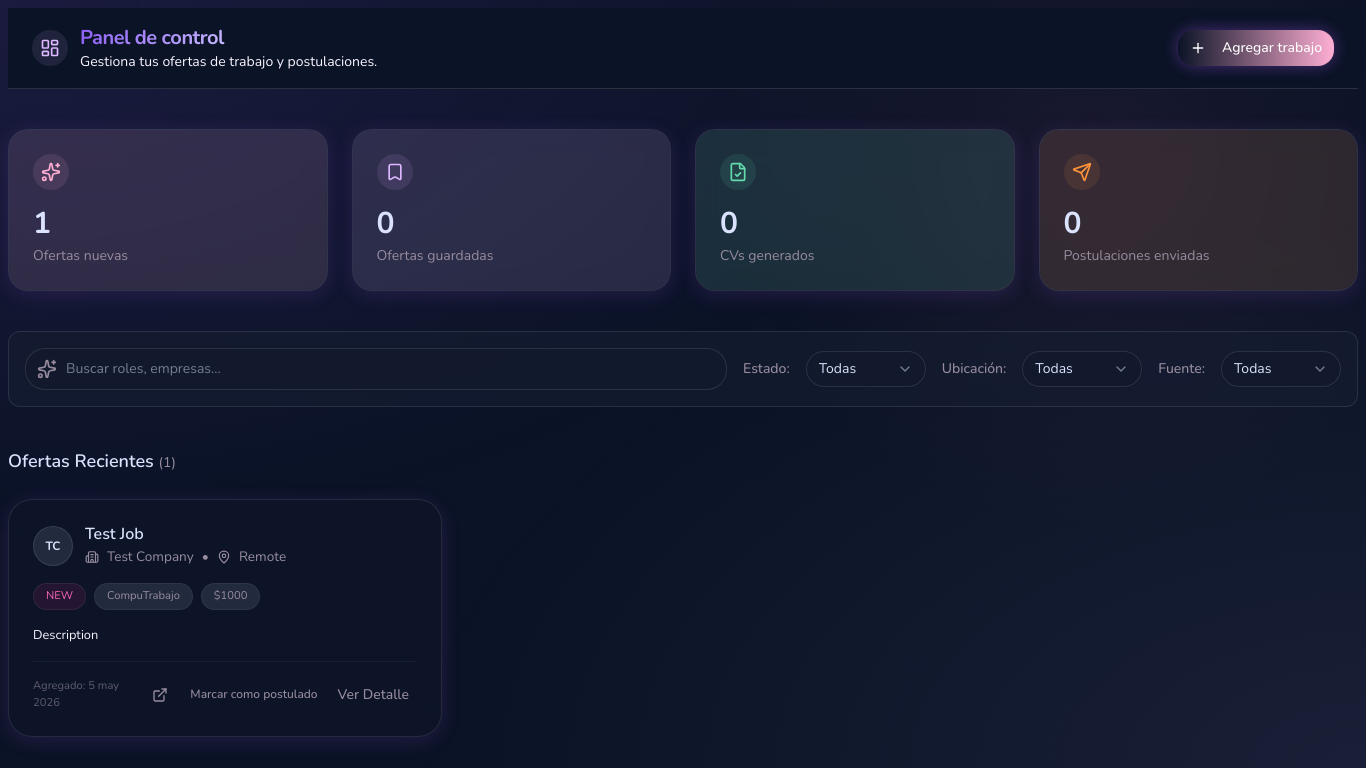
Test: Dashboard Pagination › updates job status when "Mark as Applied" is clicked
Check: the heading "Test Job" is shown, box [85,523,144,545]
Check: the text "NEW" is shown, box [33,583,86,610]
Click the button "Marcar como postulado".
click(254, 695)  # box [182,679,326,711]
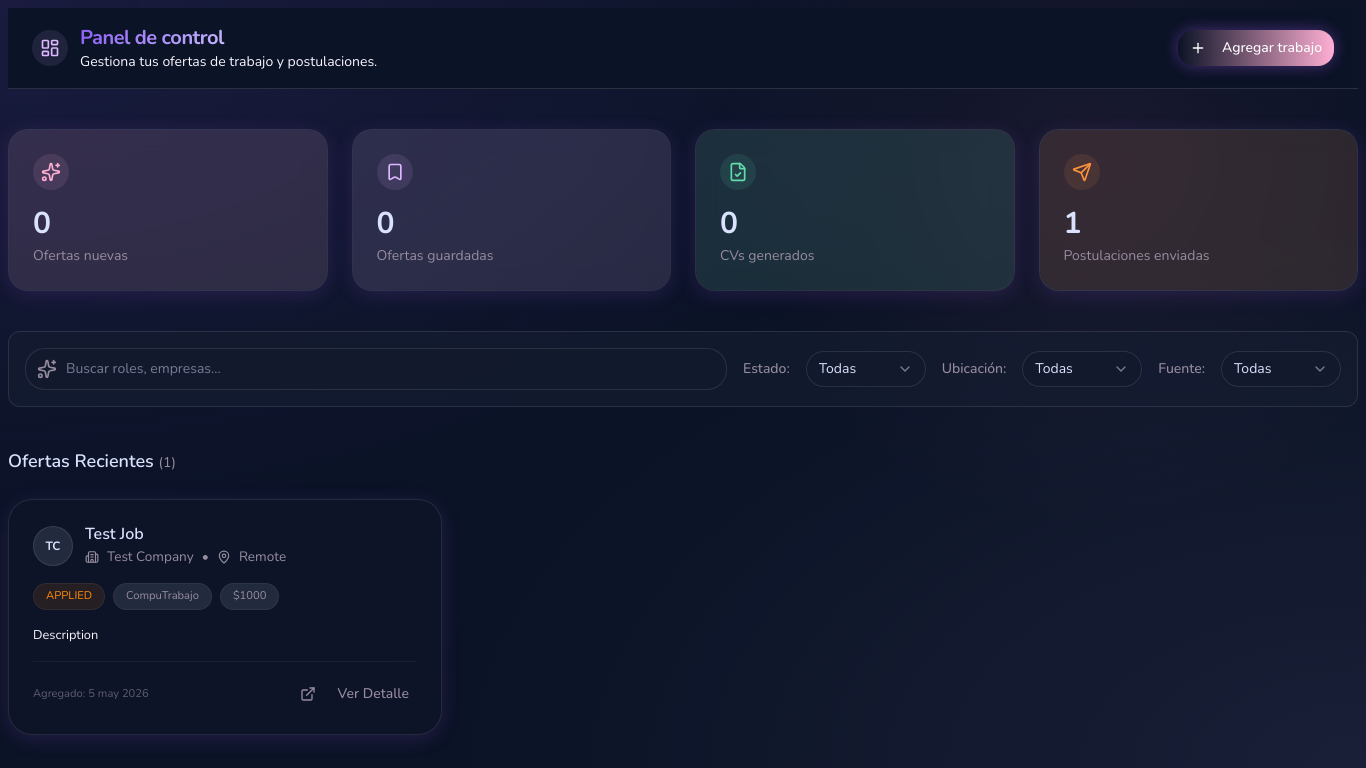
Check: the text "APPLIED" is shown, box [33,583,105,610]
